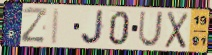0: (108, 9, 132, 47)
I: (49, 7, 62, 46)
J: (80, 9, 106, 46)
U: (137, 11, 165, 49)
X: (164, 10, 191, 50)
Z: (20, 6, 49, 44)
